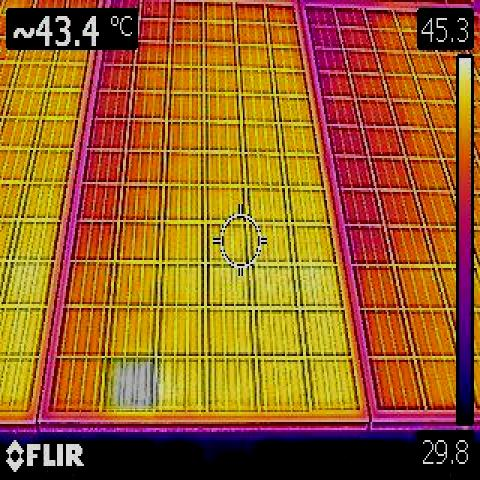fault: (104, 357, 156, 409)
